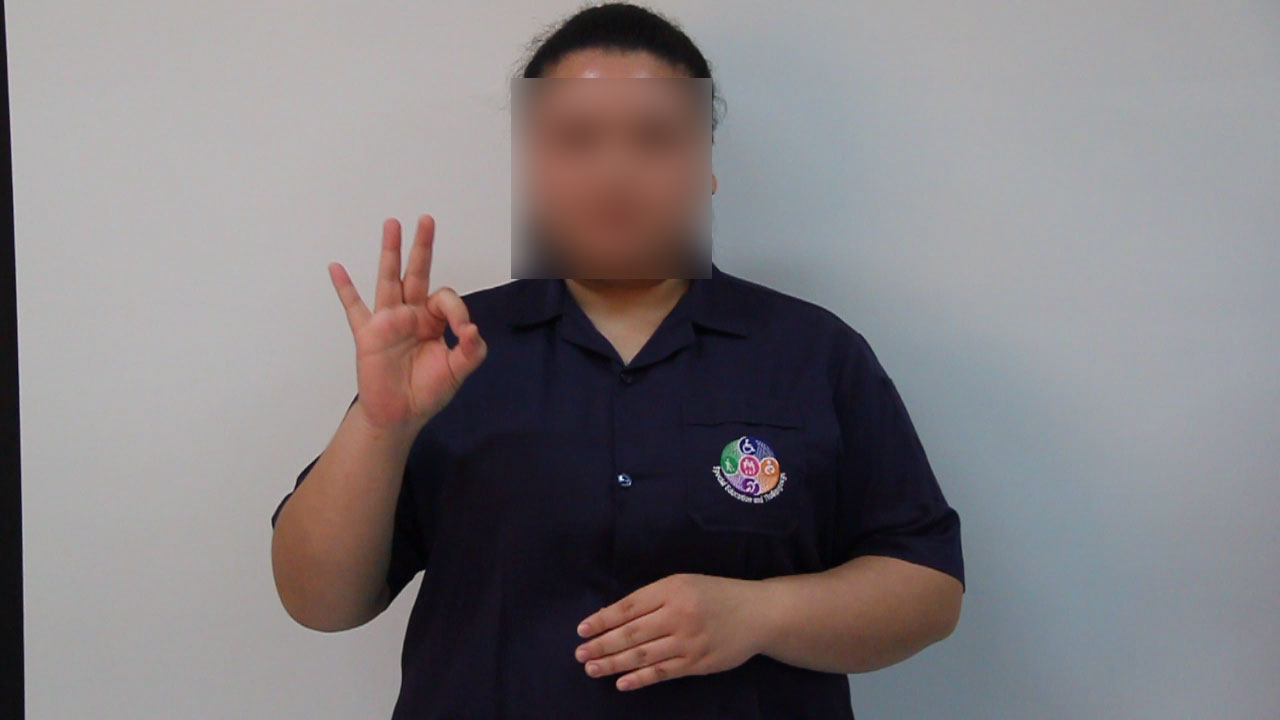for: (311, 203, 498, 422)
